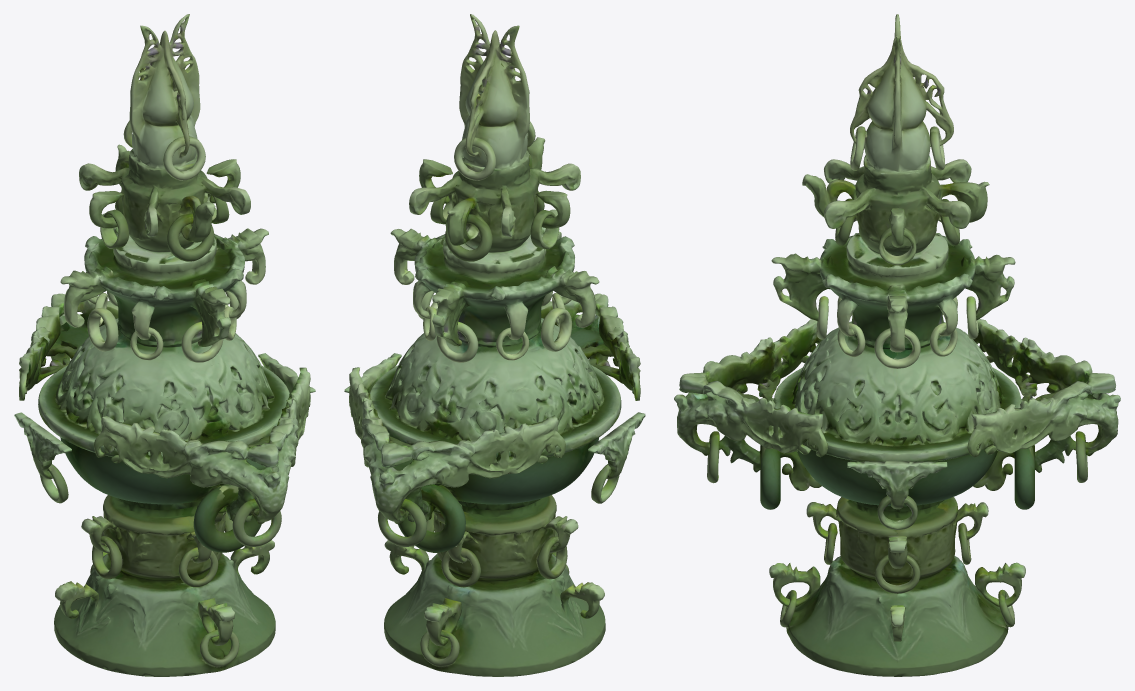
Rendered from level4_jade.glb.
3 views of the same model, side by side, from view 1: azimuth 30°, elevation 25°; view 2: azimuth 150°, elevation 25°; view 3: azimuth 270°, elevation 25° (orthographic).
Visible parts, largest first — view 1: tripo_node_d254c34c; view 2: tripo_node_d254c34c; view 3: tripo_node_d254c34c.
Part boxes in pixels (x1,y1,x2,y2): tripo_node_d254c34c: [14, 14, 315, 676]; tripo_node_d254c34c: [344, 14, 645, 676]; tripo_node_d254c34c: [674, 14, 1120, 676].
Size of the model in its own units: 0.1528 by 0.343 by 0.2291.
1 material, 1 textured.
